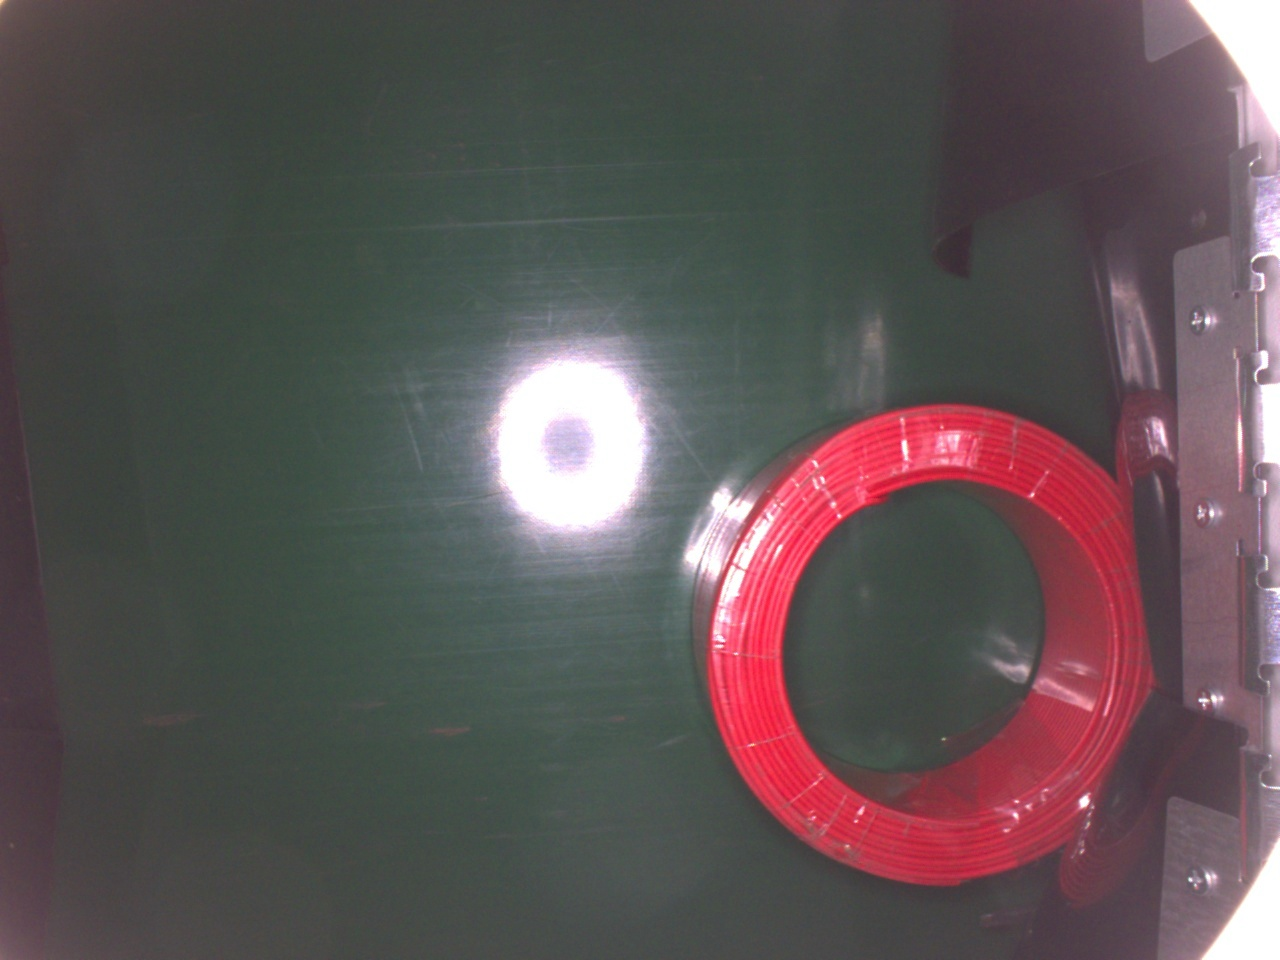red: (697, 395, 1156, 885)
